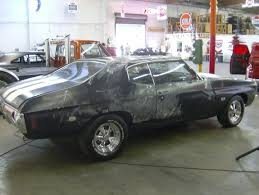Dent: (202, 79, 255, 95)
Scratch: (118, 84, 186, 124), (48, 92, 95, 126)
